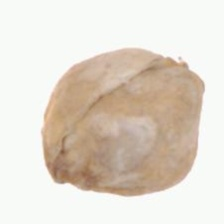L1: (154, 51, 207, 91), (40, 157, 95, 192)
L2: (40, 46, 205, 197)
